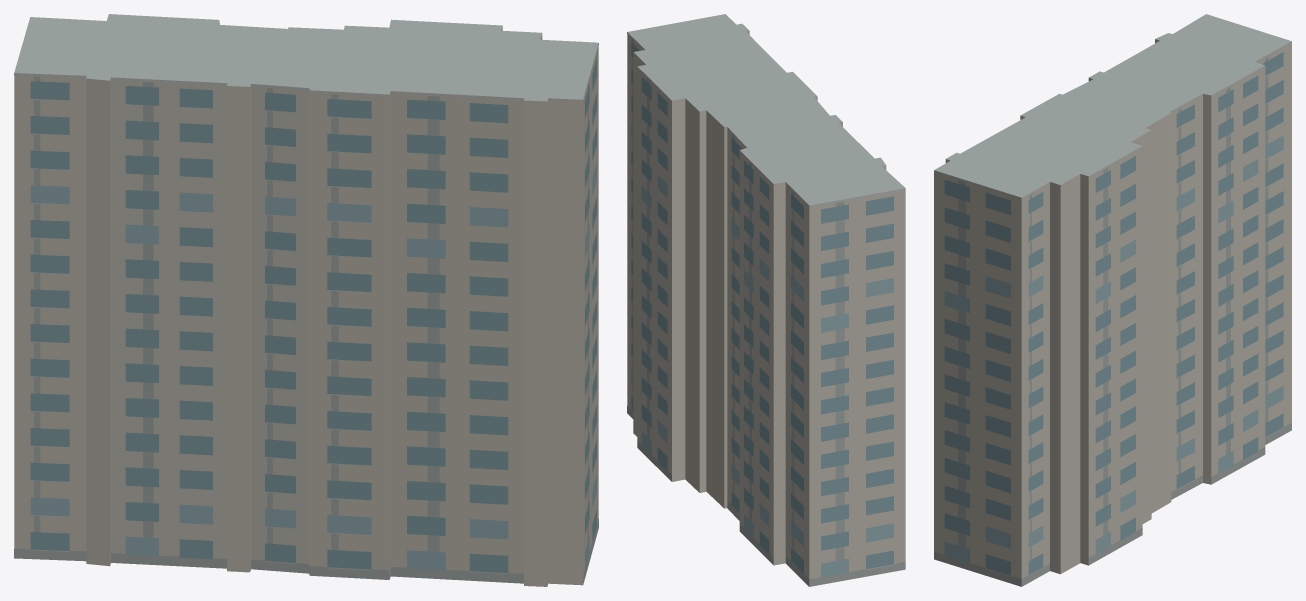
Rendered from residential-e2a3dfd6-e8c3-42bb-a29c-c66047737c65.glb.
3 renders of one model, left to right at view 1: azimuth 30°, elevation 25°; view 2: azimuth 150°, elevation 25°; view 3: azimuth 270°, elevation 25°, orthographic. The views are drawn at different scales.
Parts seen in each view (by area): view 1: residential-e2a3dfd6-e8c3-42bb-a29c-c66047737c65.tmp; view 2: residential-e2a3dfd6-e8c3-42bb-a29c-c66047737c65.tmp; view 3: residential-e2a3dfd6-e8c3-42bb-a29c-c66047737c65.tmp.
Boxes of the visible parts, bbox=[...] form: residential-e2a3dfd6-e8c3-42bb-a29c-c66047737c65.tmp: bbox=[14, 14, 598, 586]; residential-e2a3dfd6-e8c3-42bb-a29c-c66047737c65.tmp: bbox=[627, 14, 905, 586]; residential-e2a3dfd6-e8c3-42bb-a29c-c66047737c65.tmp: bbox=[934, 14, 1291, 586].
Size of the model in its own units: 42.53 by 42 by 35.
